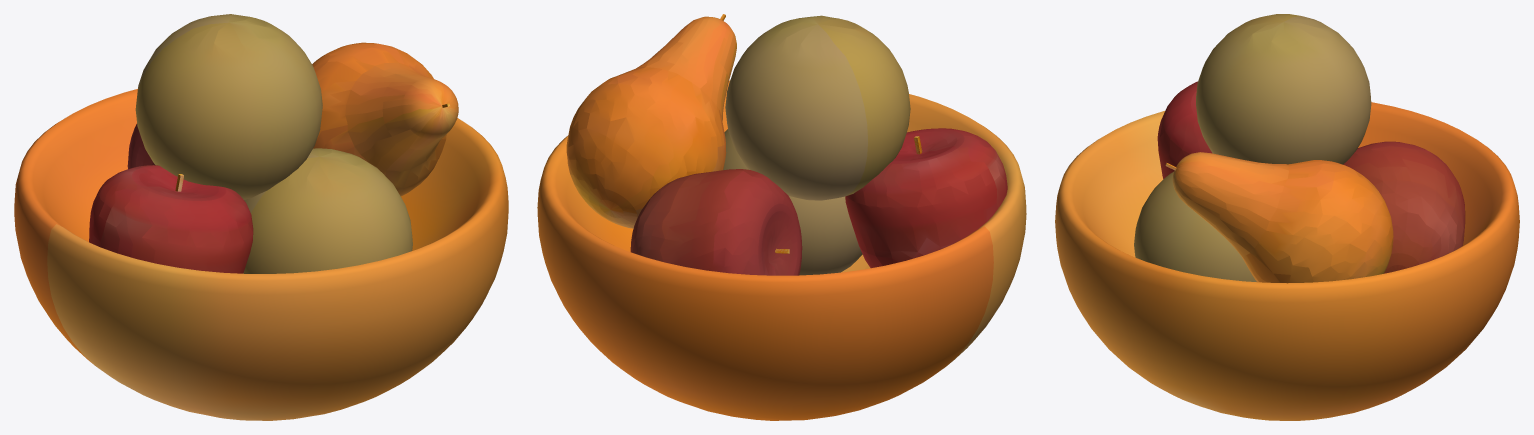
File: fruits_lod_050.obj
The picture shows the model from 3 angles, left to right: view 1: azimuth 30°, elevation 25°; view 2: azimuth 150°, elevation 25°; view 3: azimuth 270°, elevation 25°; orthographic projection. The views are drawn at different scales.
Size of the model in its own units: 2.09 by 1.78 by 2.09.
Materials: 1 (1 with a texture image).
